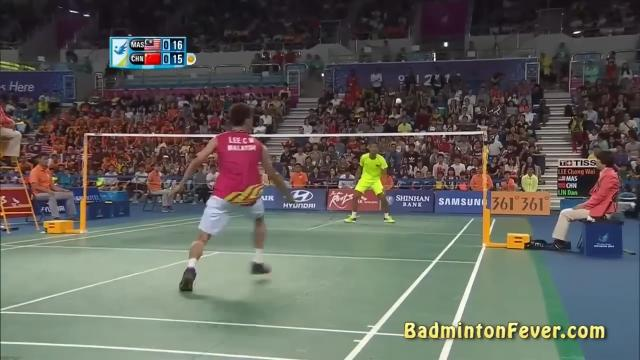Shuttlecock: (392, 96, 406, 108)
